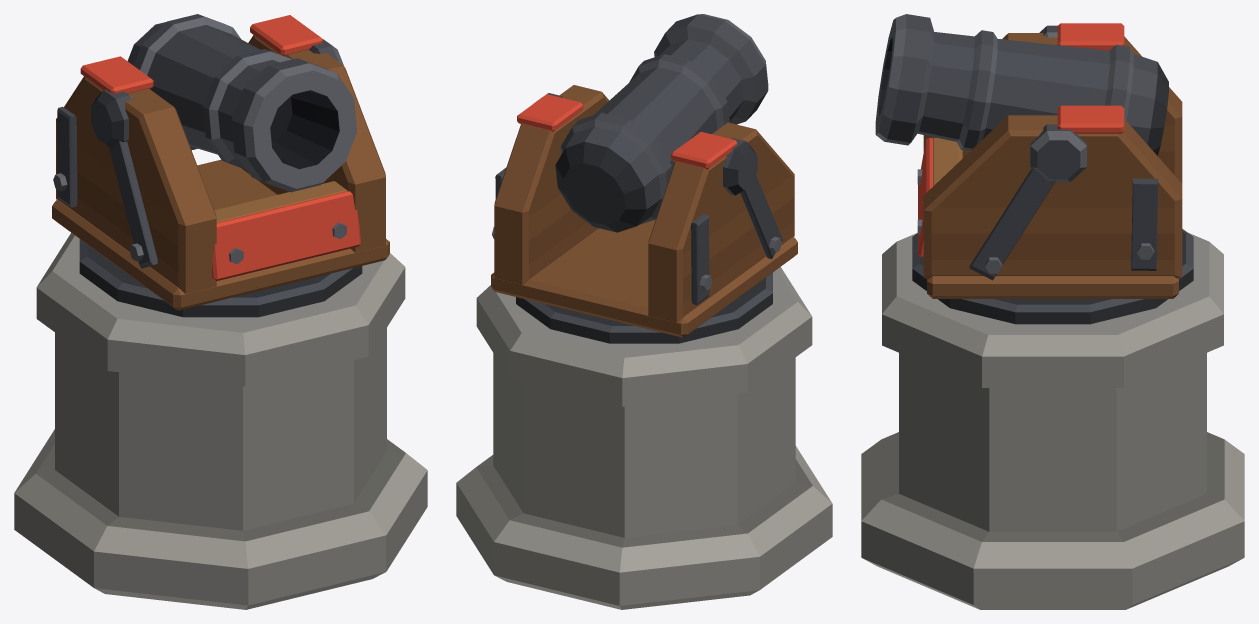
File: lv1_balistique.glb
3 renders of one model, left to right at view 1: azimuth 30°, elevation 25°; view 2: azimuth 150°, elevation 25°; view 3: azimuth 270°, elevation 25°, orthographic. The views are drawn at different scales.
Visible parts, largest first — view 1: Base, Turret_Yaw, Barrel_Recoil, Team_Panels; view 2: Base, Turret_Yaw, Barrel_Recoil, Team_Panels; view 3: Base, Turret_Yaw, Barrel_Recoil, Team_Panels.
Part boxes in pixels (bbox=[...]): Base: bbox=[14, 232, 427, 609]; Turret_Yaw: bbox=[52, 35, 389, 310]; Barrel_Recoil: bbox=[127, 14, 356, 192]; Team_Panels: bbox=[80, 15, 360, 281]; Base: bbox=[456, 267, 832, 609]; Turret_Yaw: bbox=[491, 85, 797, 337]; Barrel_Recoil: bbox=[555, 14, 768, 232]; Team_Panels: bbox=[517, 94, 737, 169]; Base: bbox=[861, 229, 1244, 609]; Turret_Yaw: bbox=[917, 25, 1182, 298]; Barrel_Recoil: bbox=[875, 14, 1168, 155]; Team_Panels: bbox=[918, 23, 1124, 257].
Bounding box in the file's own units: 1.2 × 1.78 × 1.2.
